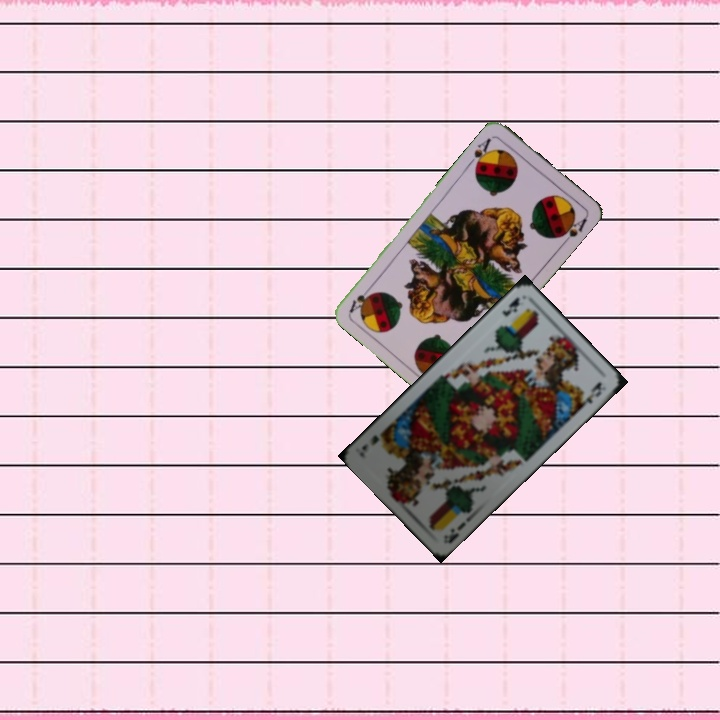EK: (439, 518, 468, 546), (498, 293, 522, 319)
SA: (465, 134, 495, 172)
